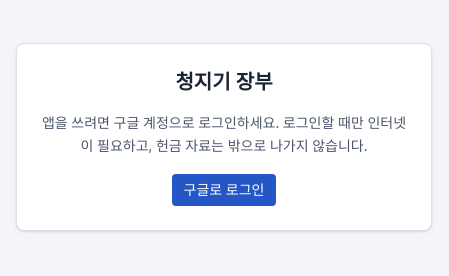
Test: AuthGate › 로그인이 실패하면 사유를 보여 주고 앱은 열리지 않는다
This screenshot has width=449, height=276.
Click the button "구글로 로그인": x=224, y=190 [172,174,276,206]
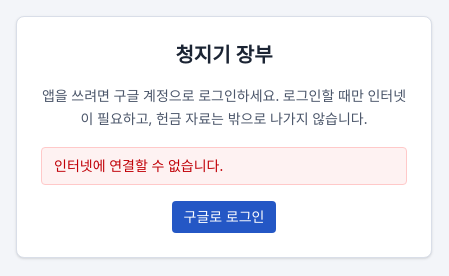
Expected: the message reads "인터넷에 연결할 수 없습니다.", [54,156,223,175]
